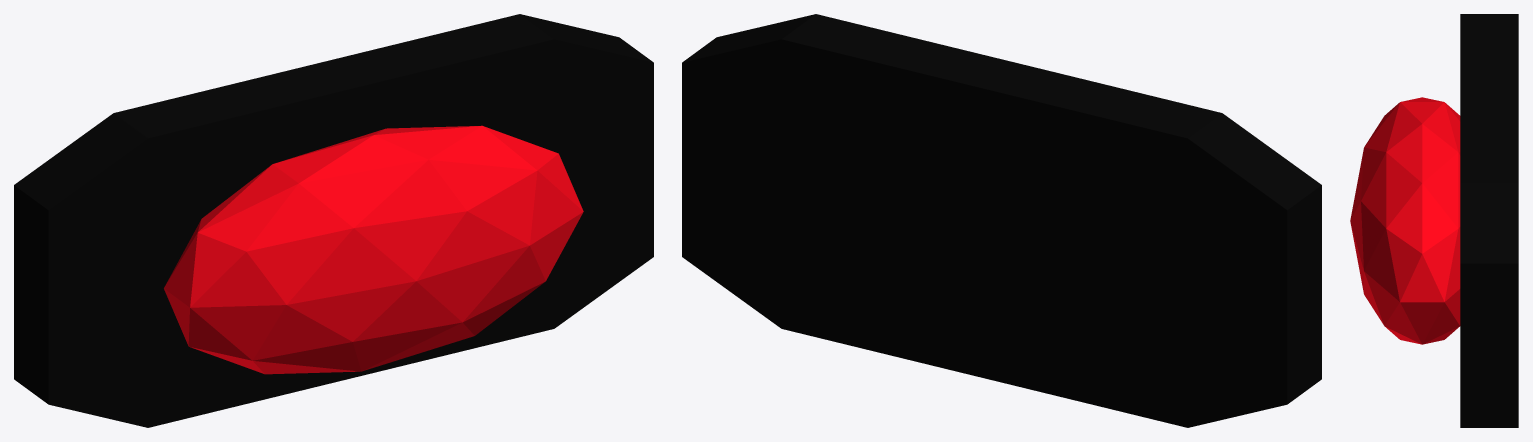
The model's file is Wall Lamp.fbx.
The picture shows the model from 3 angles, left to right: view 1: azimuth 30°, elevation 25°; view 2: azimuth 150°, elevation 25°; view 3: azimuth 270°, elevation 25°; orthographic projection. The views are drawn at different scales.
Parts seen in each view (by area): view 1: Base, Bulb; view 2: Base; view 3: Base, Bulb.
Boxes of the visible parts, box(x1,y1,x2,y2) form: Base: box(14, 14, 653, 427); Bulb: box(164, 125, 583, 374); Base: box(682, 14, 1321, 427); Base: box(1460, 14, 1518, 427); Bulb: box(1350, 97, 1460, 344).
Size of the model in its own units: 103 by 46.96 by 29.31.
